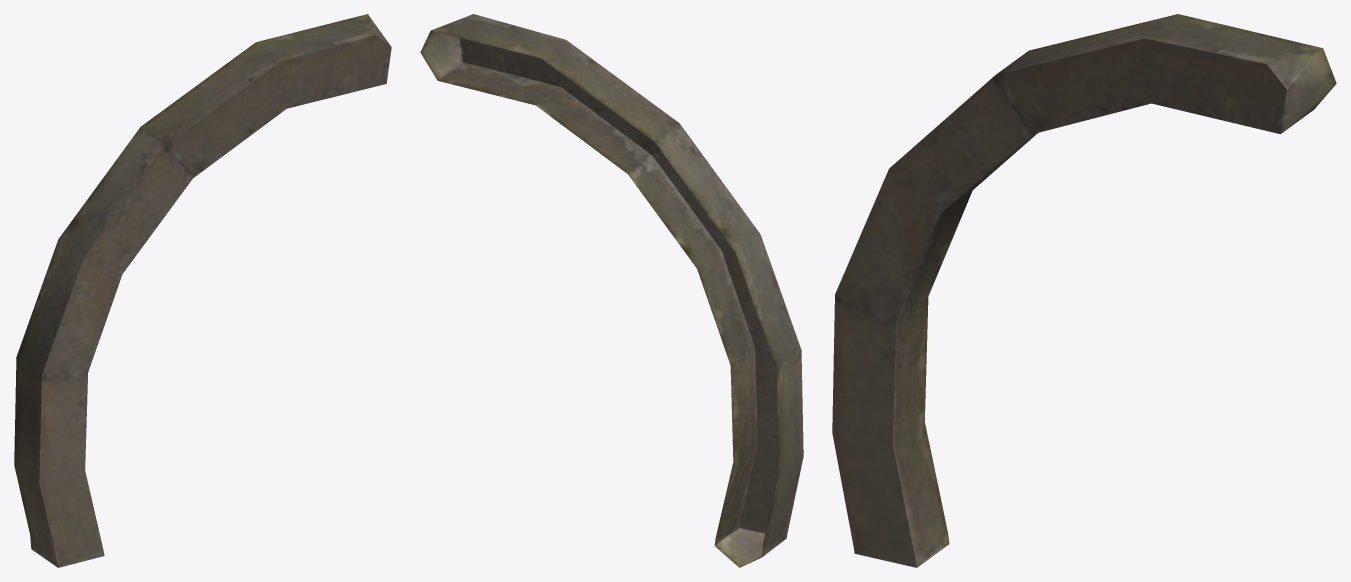
Rendered from border_c_90_2.glb.
The picture shows the model from 3 angles, left to right: view 1: azimuth 30°, elevation 25°; view 2: azimuth 150°, elevation 25°; view 3: azimuth 330°, elevation 25°; orthographic projection. The views are drawn at different scales.
Parts seen in each view (by area): view 1: set_0_group_0; view 2: set_0_group_0; view 3: set_0_group_0.
Boxes of the visible parts, x1,y1,x2,y2 form: set_0_group_0: (14, 14, 391, 567); set_0_group_0: (420, 14, 803, 567); set_0_group_0: (832, 14, 1336, 567).
Size of the model in its own units: 2.47 by 3.06 by 0.3048.
1 material, 1 textured.
